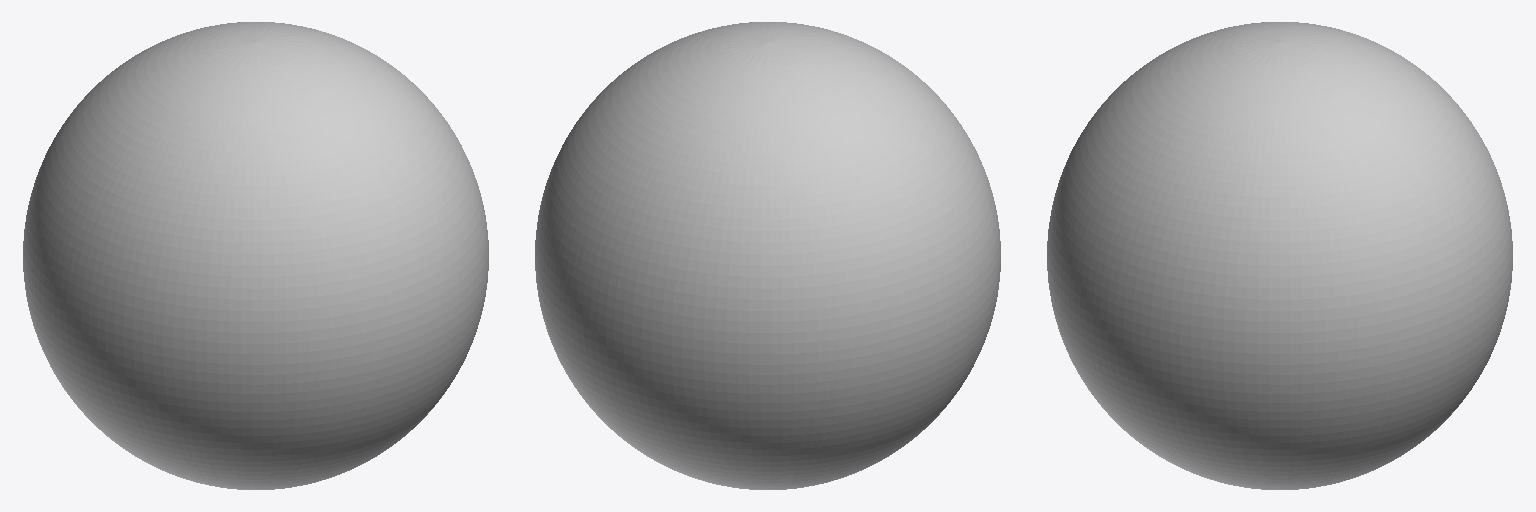
File: bulan.obj
The picture shows the model from 3 angles: view 1: azimuth 30°, elevation 25°; view 2: azimuth 150°, elevation 25°; view 3: azimuth 270°, elevation 25°; orthographic projection.
Parts seen in each view (by area): view 1: Moon; view 2: Moon; view 3: Moon.
Boxes of the visible parts, box(x1,y1,x2,y2) form: Moon: box(23, 22, 488, 489); Moon: box(535, 22, 1000, 489); Moon: box(1047, 22, 1512, 489).
Bounding box in the file's own units: 1.97 × 2 × 1.97.